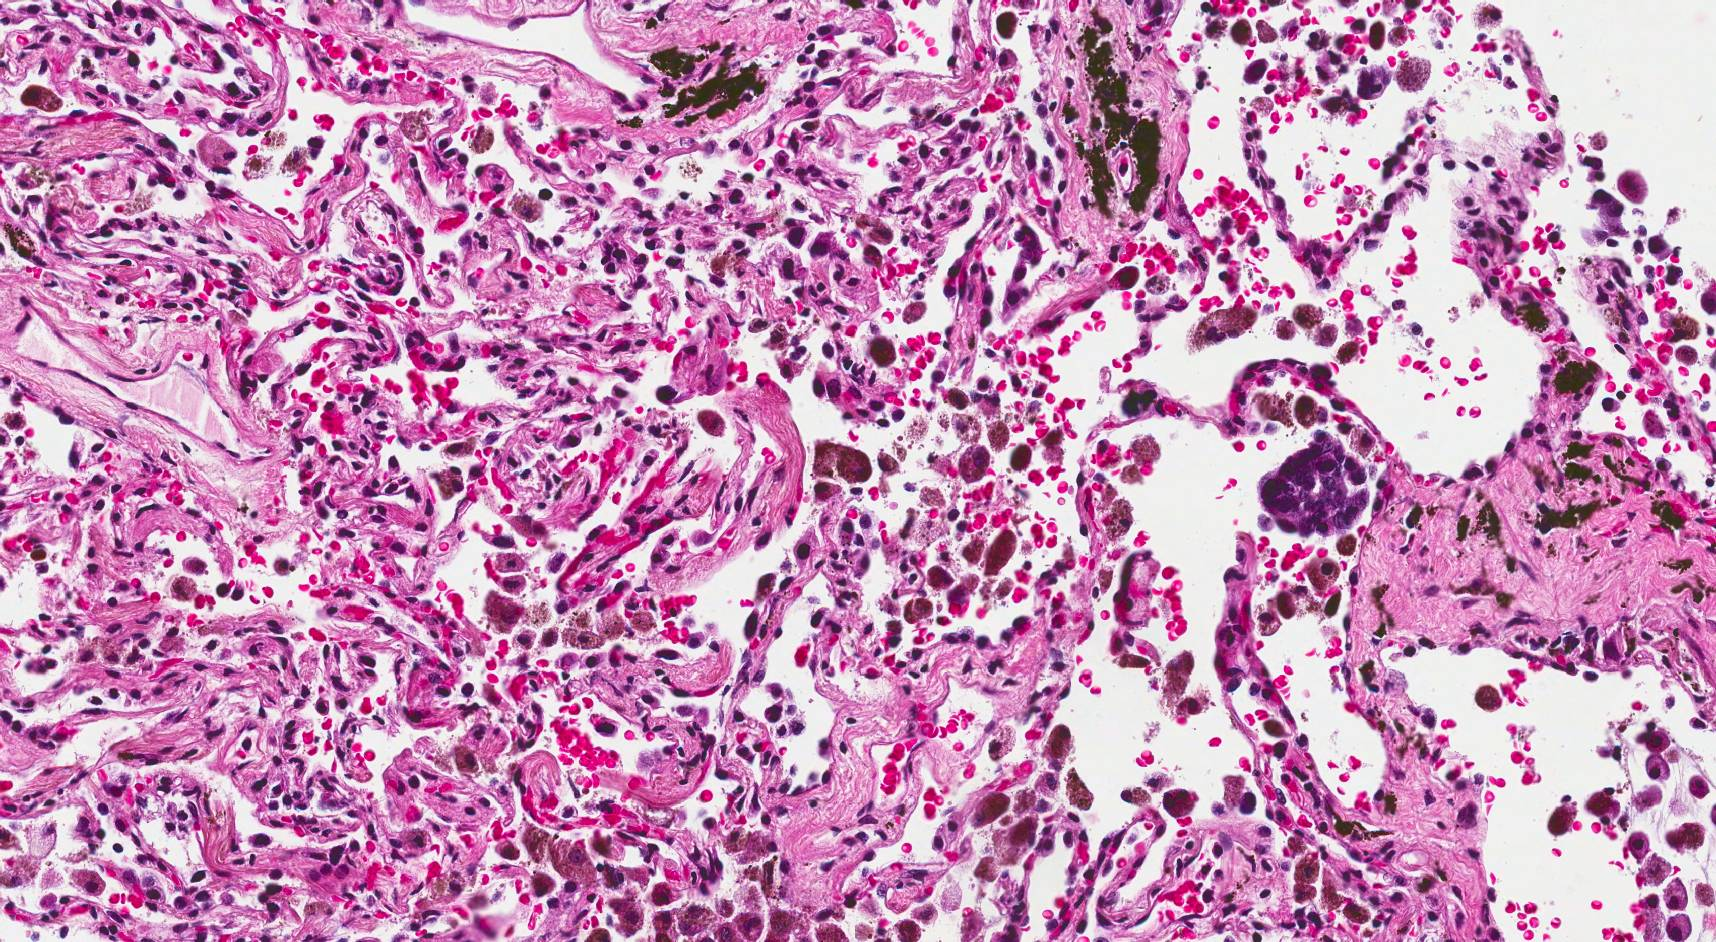stas: (1253, 425, 1374, 538)
